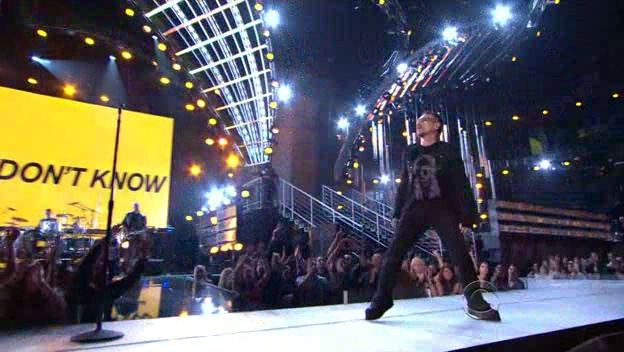person: (394, 112, 461, 239), (391, 112, 458, 239), (397, 112, 464, 239), (394, 109, 461, 236), (394, 115, 461, 242)
target_negative: (115, 150, 464, 235), (66, 6, 152, 326), (189, 270, 474, 339), (257, 250, 335, 260), (398, 302, 503, 305), (608, 290, 615, 329)
